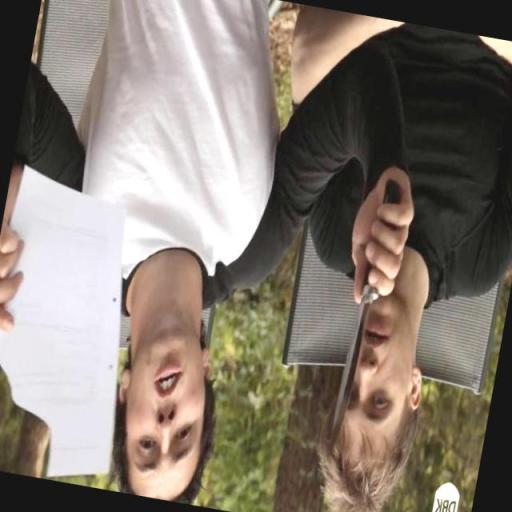knife: (322, 172, 405, 466)
